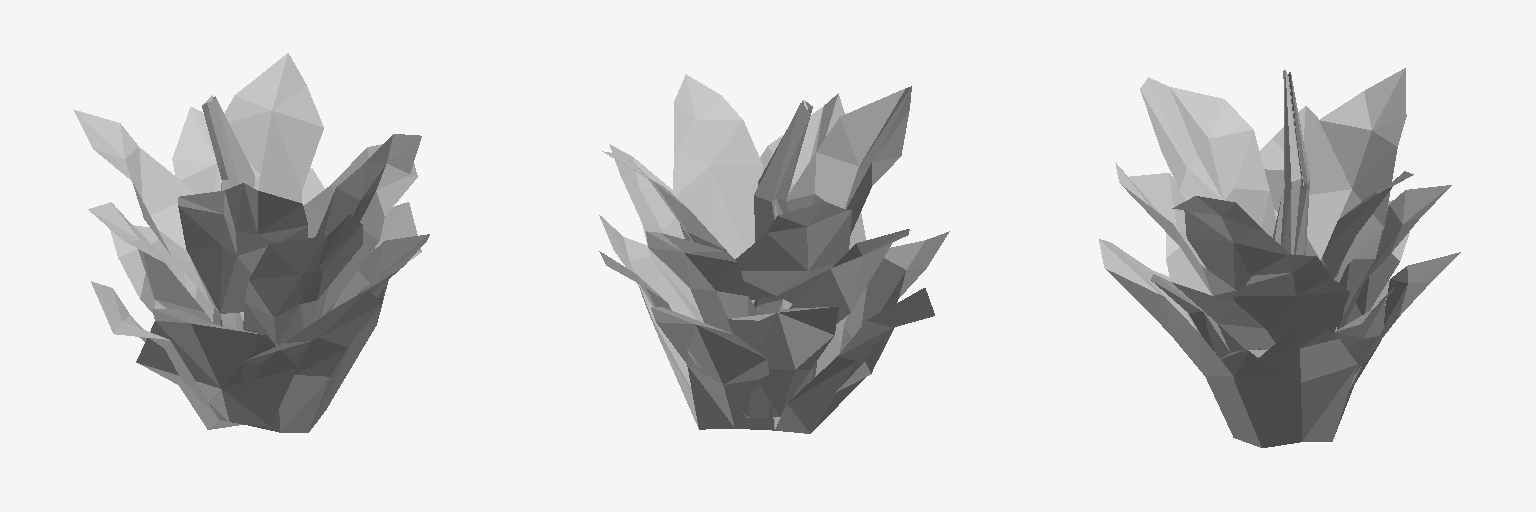
Rendered from green_spikey_bush.obj.
3 renders of one model, left to right at view 1: azimuth 30°, elevation 25°; view 2: azimuth 150°, elevation 25°; view 3: azimuth 270°, elevation 25°, orthographic.
Parts seen in each view (by area): view 1: p2-green_Cylinder.051; view 2: p2-green_Cylinder.051; view 3: p2-green_Cylinder.051.
Part boxes in pixels (x1,y1,x2,y2): p2-green_Cylinder.051: (73,53,429,432); p2-green_Cylinder.051: (599,74,949,433); p2-green_Cylinder.051: (1099,68,1460,447).
Bounding box in the file's own units: 3.9 × 3.87 × 3.8.